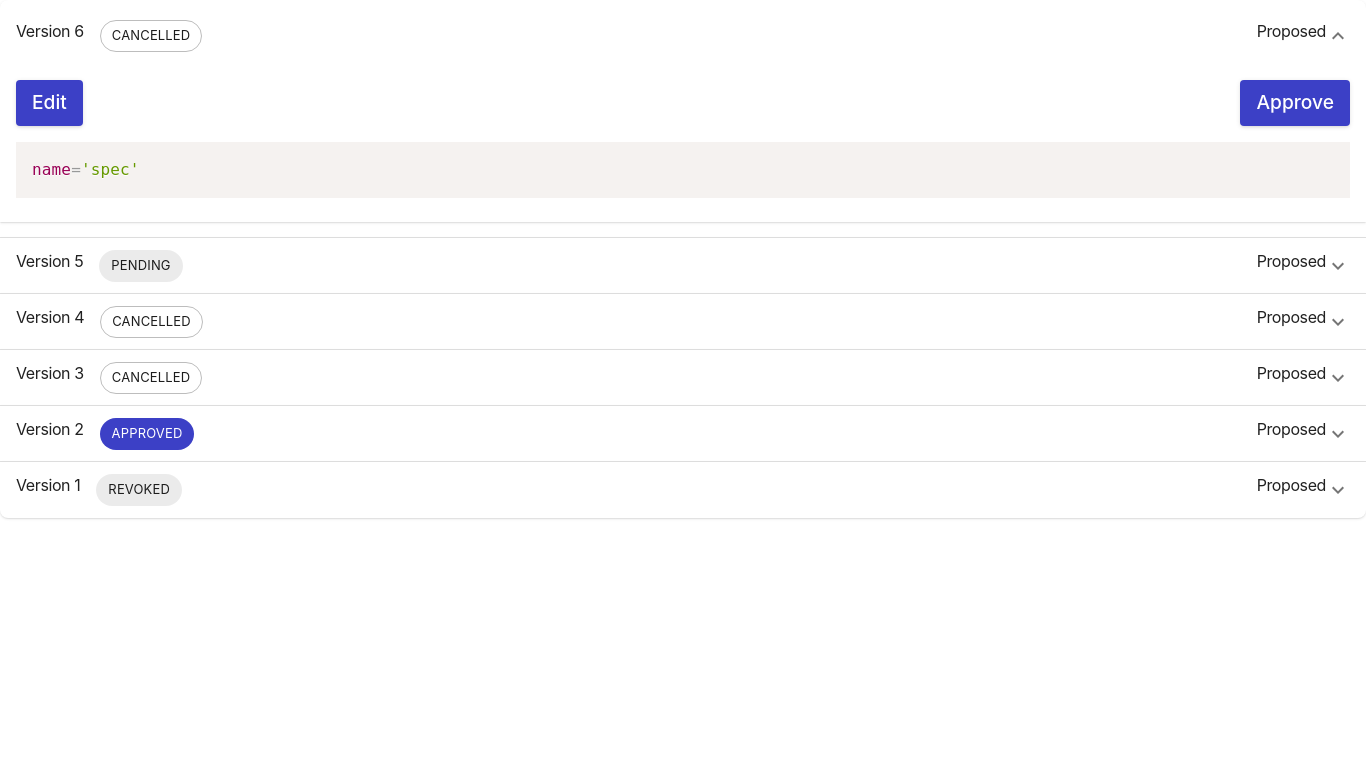
SpecsView › Approve button › is visible in latest two cancelled specs if proposal is not deleted or revoked
This screenshot has width=1366, height=768.
Check: the number of elements with test id "expansion-panel" is 6, box [0,0,1365,222]; [0,238,1365,294]; [0,294,1365,350]; [0,350,1365,406]; [0,406,1365,462]; [0,462,1365,518]
Check: the button "Approve" is shown, box [1240,80,1350,126]
Click the button "Version 4 CANCELLED Proposed".
click(45, 317)  # box [16,306,1350,338]
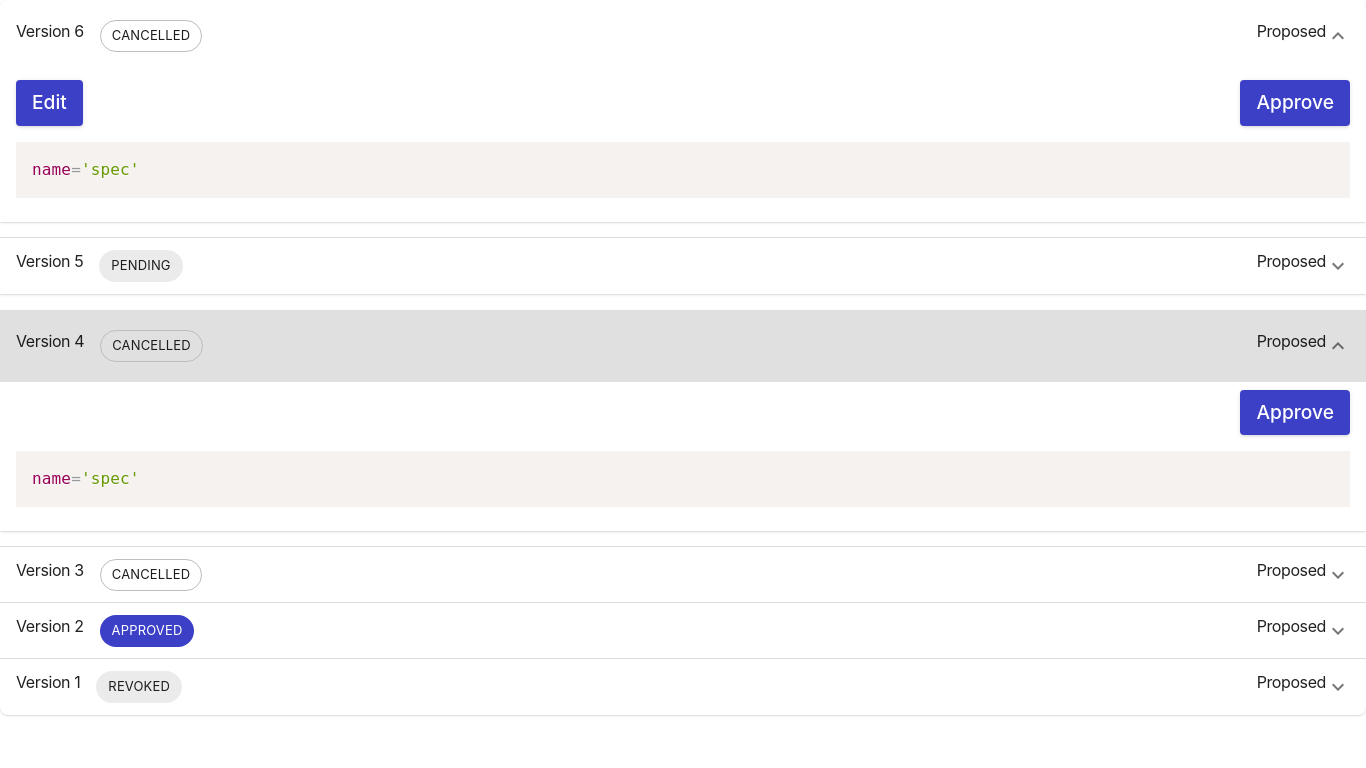
Check: the 2nd button "Approve" is shown, box [1240,390,1350,435]
